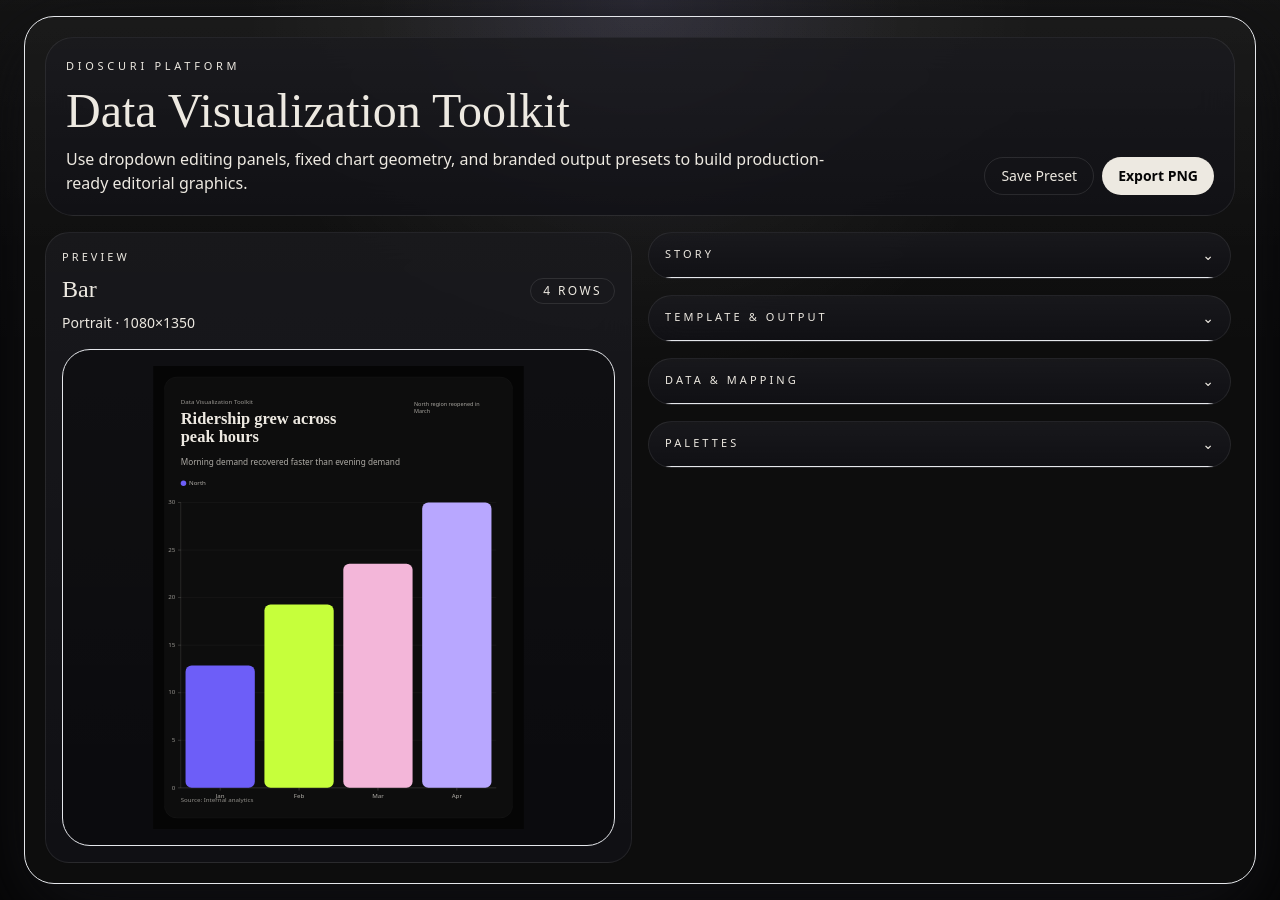
Test case: DatavizToolkitPage › switches the active section instead of stacking multiple open accordions
The image size is (1280, 900).
Click the button "Story ⌄". click: (690, 254)
box: [665,244,1214,264]
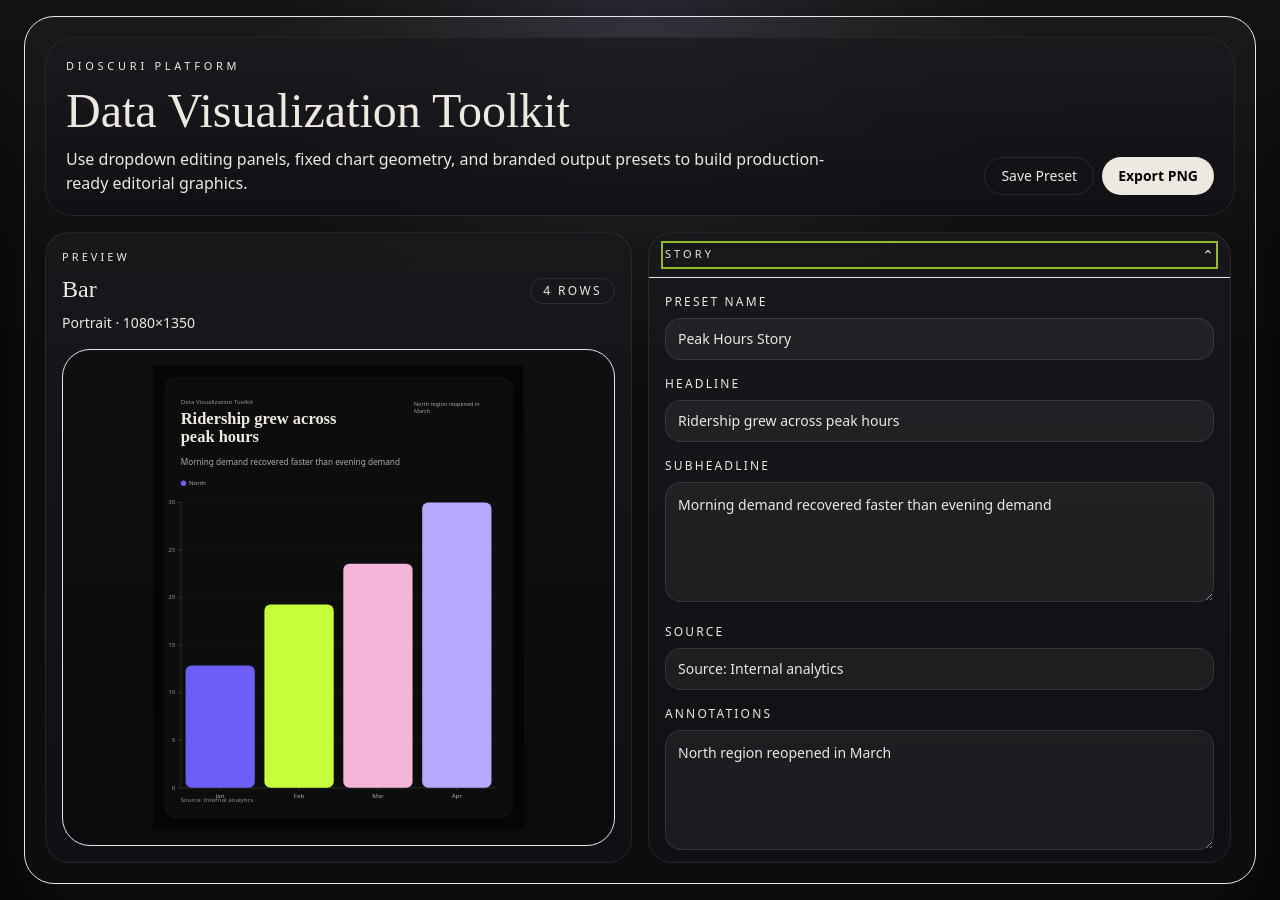
Expected: the field labelled "Preset Name" is shown, [665,318,1214,360]
Expected: the button "Data & Mapping" is gone
Click the button "Story ⌄". click: (690, 254)
box: [665,244,1214,264]
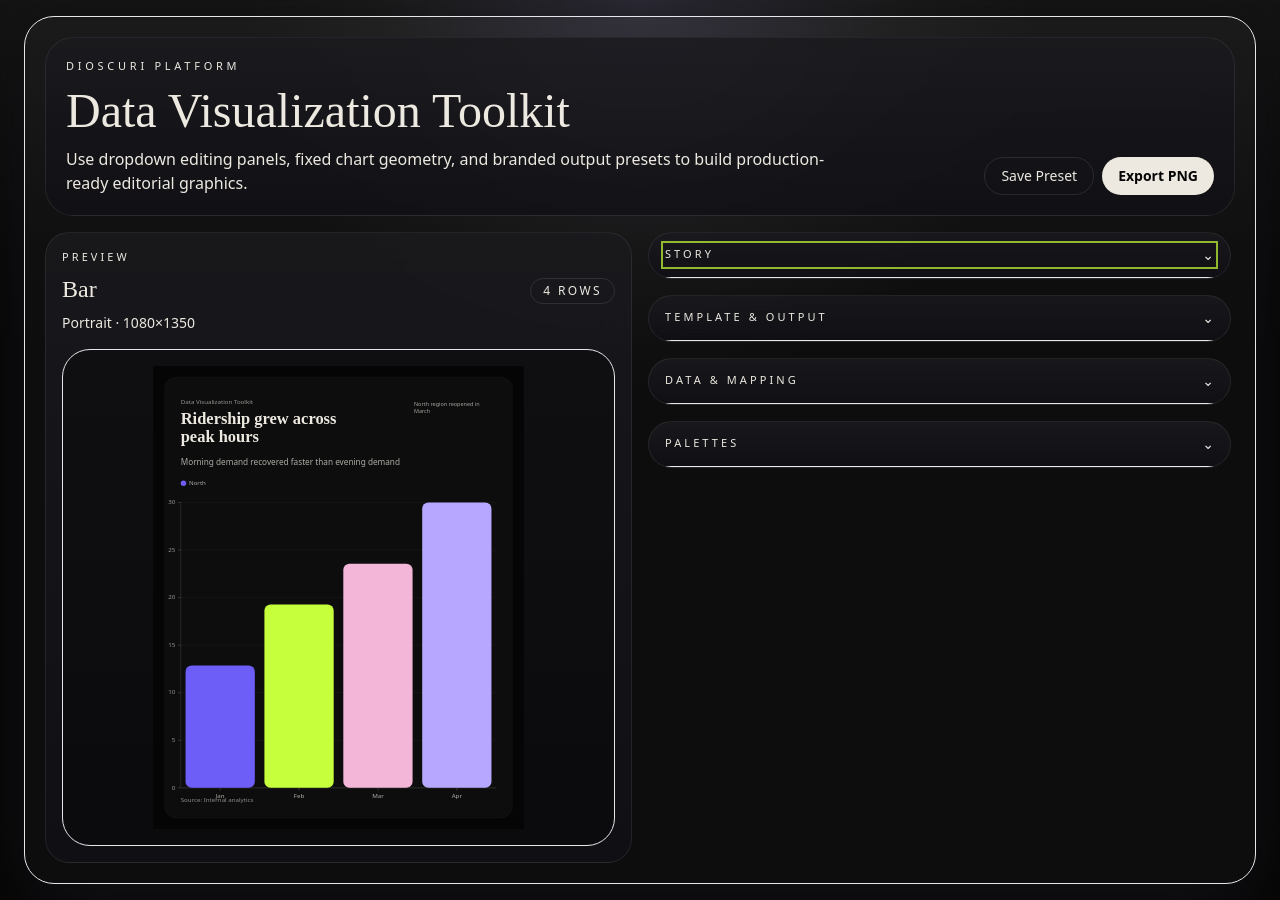
Click the button "Data & Mapping ⌄". click: (732, 380)
box: [665,370,1214,390]
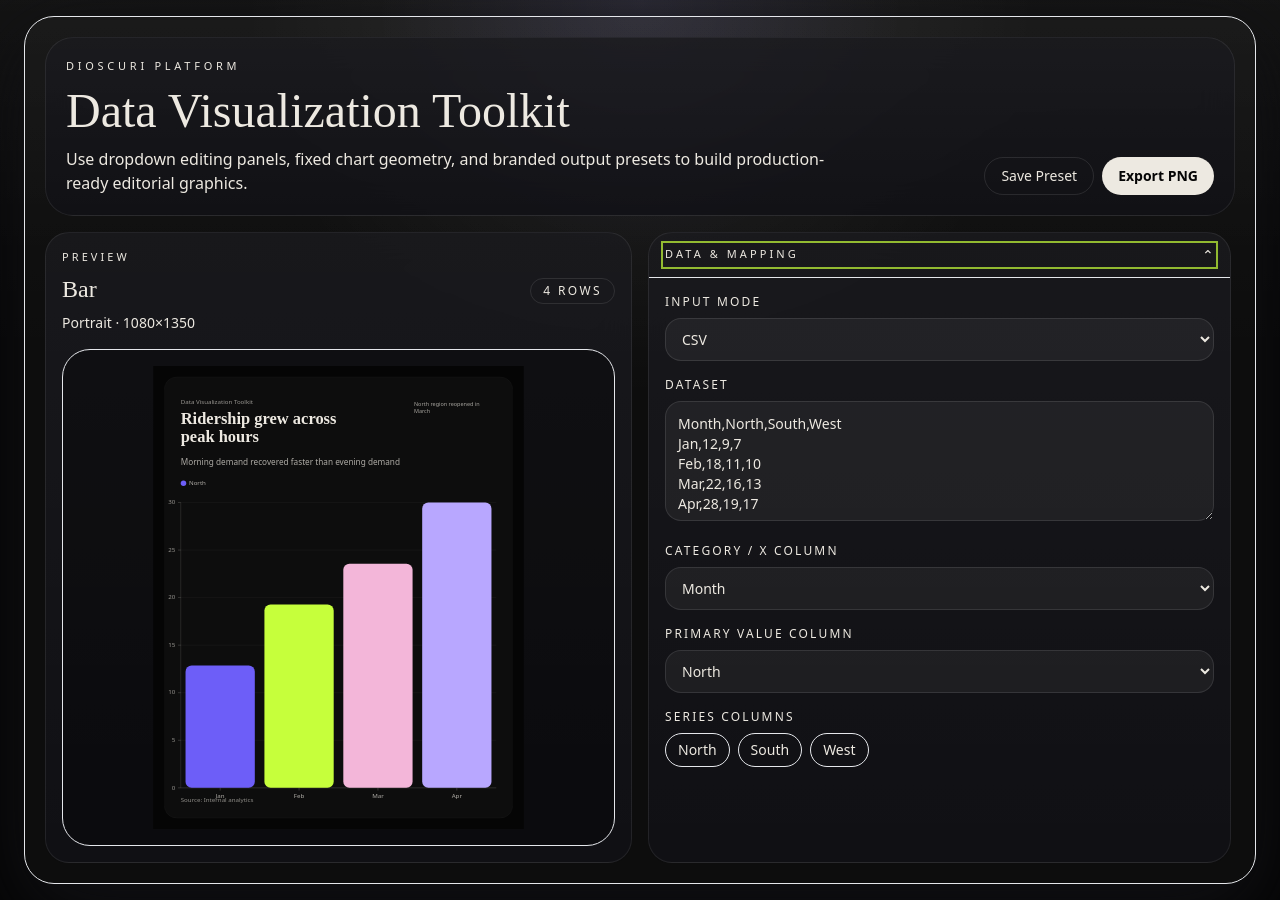
Expected: the button "Data & Mapping ⌄" is expanded, [665,244,1214,264]
Expected: the text box labelled "Dataset" is shown, [665,400,1214,520]
Expected: the button "Story" is gone
